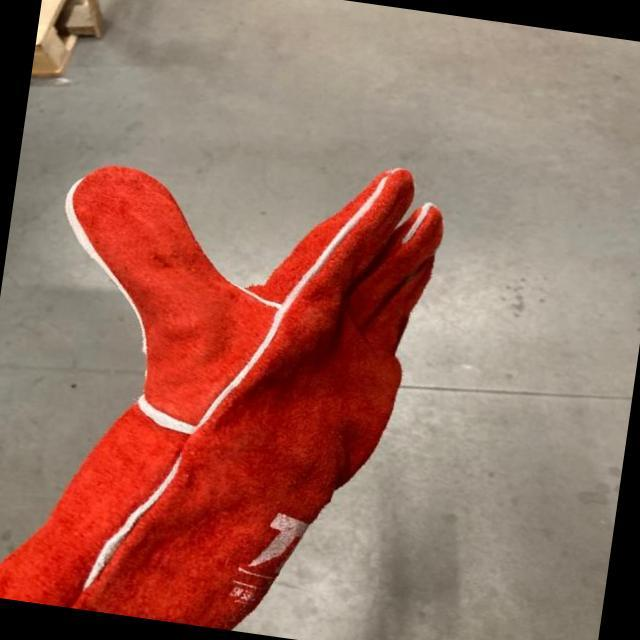glove: (29, 153, 458, 575)
